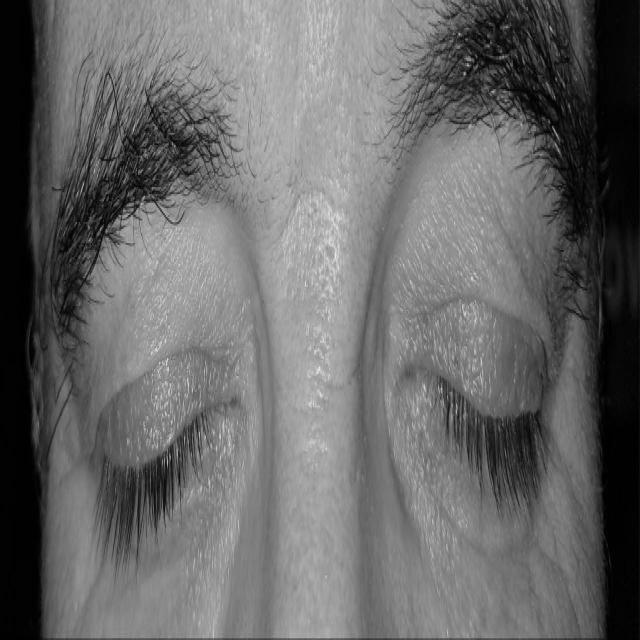real: (44, 77, 580, 575)
